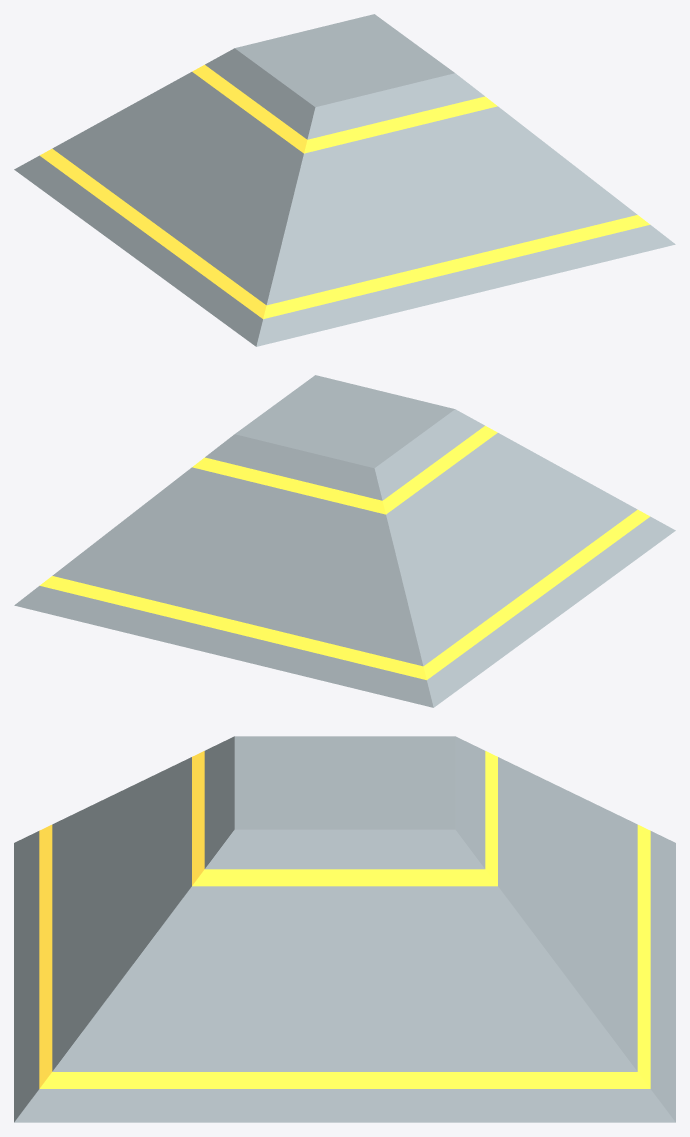
Rendered from SM_Trapezoid_v0_2.fbx.
The picture shows the model from 3 angles, top to bottom: view 1: azimuth 30°, elevation 25°; view 2: azimuth 150°, elevation 25°; view 3: azimuth 270°, elevation 25°; orthographic projection. The views are drawn at different scales.
Visible parts, largest first — view 1: SM_Trapezoid_V0_2; view 2: SM_Trapezoid_V0_2; view 3: SM_Trapezoid_V0_2.
Boxes of the visible parts, <box> form: SM_Trapezoid_V0_2: <box>14,14,675,346</box>; SM_Trapezoid_V0_2: <box>14,375,675,707</box>; SM_Trapezoid_V0_2: <box>14,736,675,1122</box>.
Size of the model in its own units: 3 by 1 by 3.
